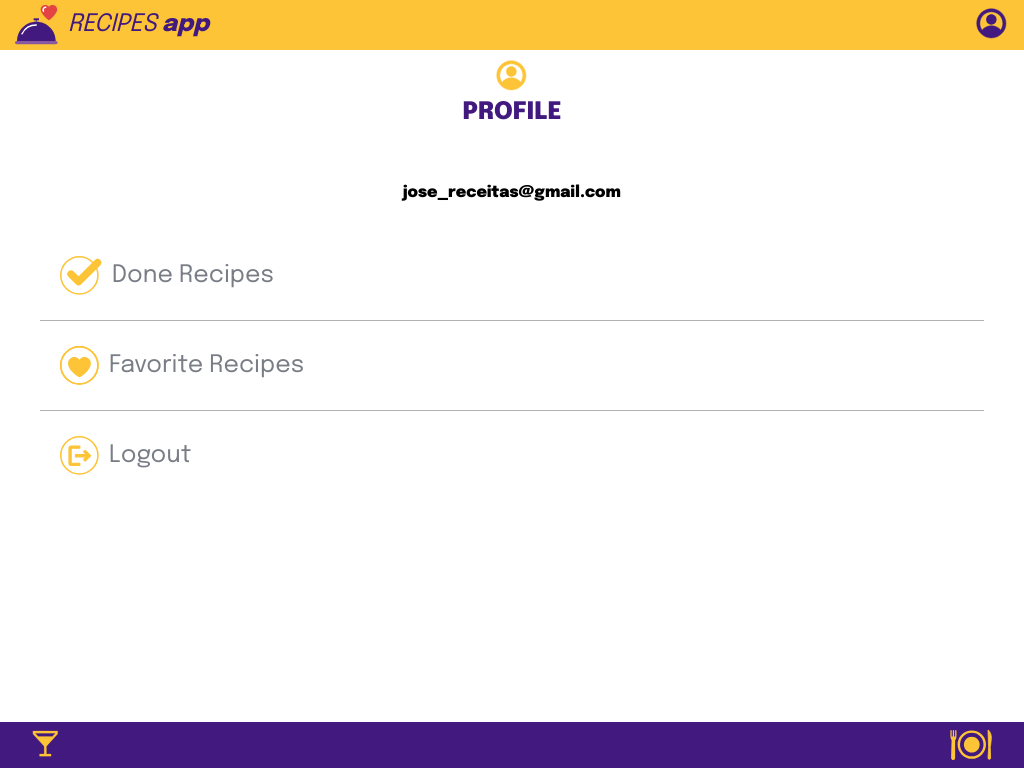
it: Testa a pagina Profile › Verifica se possui um botão com o texto "Logout" que oa ser clicado redireciona para a pagina de login
The width and height of the screenshot is (1024, 768).
Click the button named "logout button logout" at coordinates (80, 456), box [40,431,984,480]
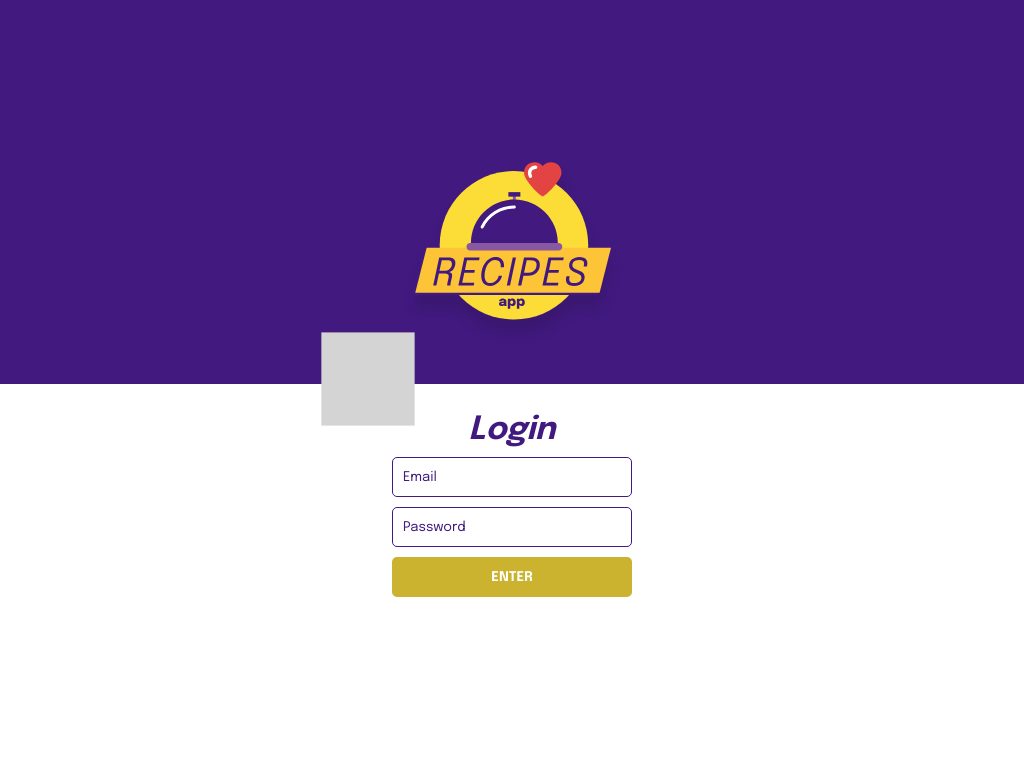
Expected: the heading "Login" is shown, [468,414,556,446]
